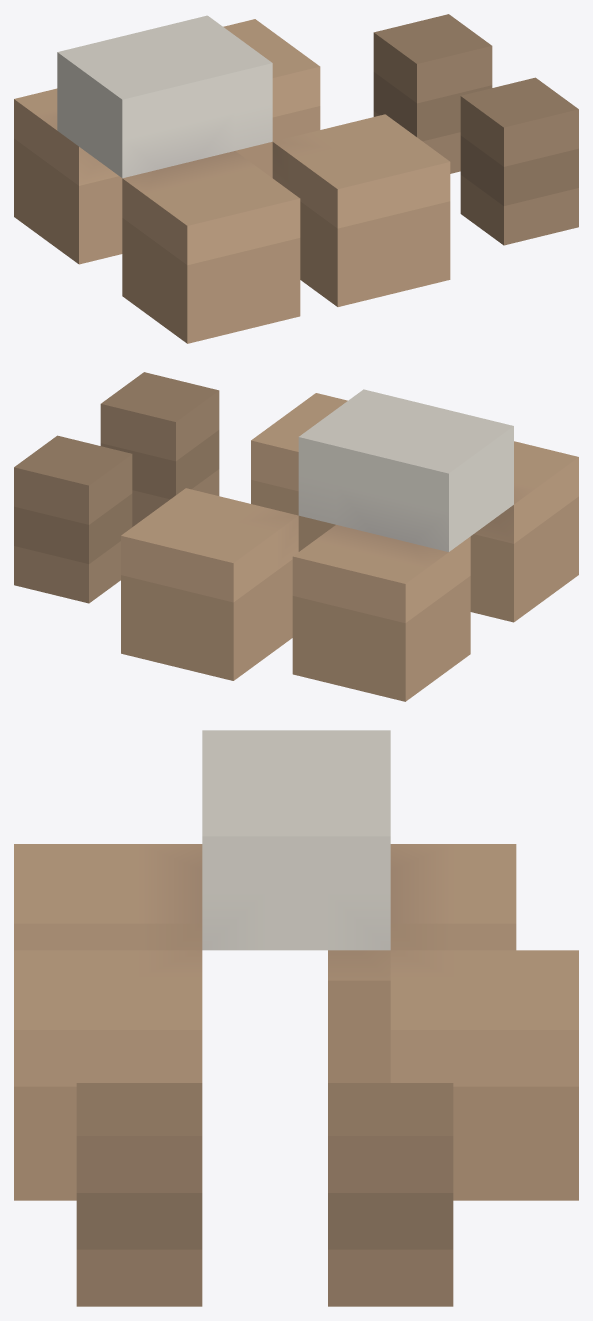
Rendered from galleon.cargo.glb.
The picture shows the model from 3 angles, top to bottom: view 1: azimuth 30°, elevation 25°; view 2: azimuth 150°, elevation 25°; view 3: azimuth 270°, elevation 25°; orthographic projection. The views are drawn at different scales.
Parts seen in each view (by area): view 1: galleon; view 2: galleon; view 3: galleon.
Boxes of the visible parts, x1,y1,x2,y2 form: galleon: [14, 14, 578, 343]; galleon: [14, 372, 578, 701]; galleon: [14, 730, 578, 1306].
Size of the model in its own units: 0.55 by 0.25 by 0.45.
